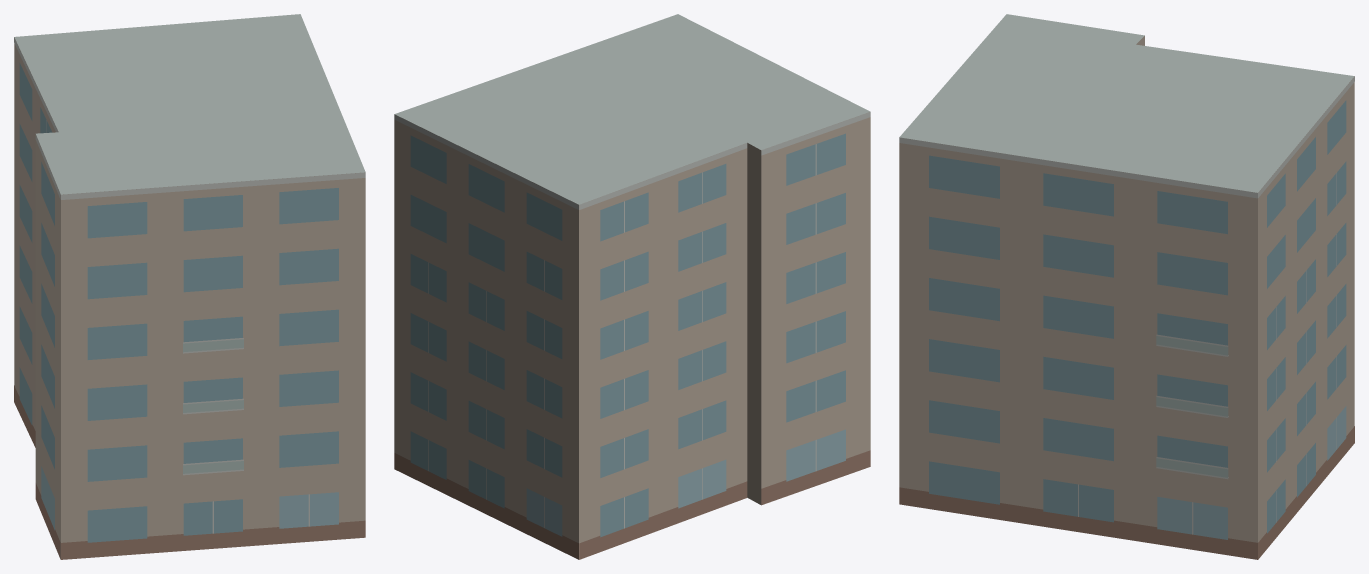
Rendered from survey-upis-32955156.glb.
3 renders of one model, left to right at view 1: azimuth 30°, elevation 25°; view 2: azimuth 150°, elevation 25°; view 3: azimuth 270°, elevation 25°, orthographic. The views are drawn at different scales.
Visible parts, largest first — view 1: survey-upis-32955156.tmp; view 2: survey-upis-32955156.tmp; view 3: survey-upis-32955156.tmp.
Part boxes in pixels (x1,y1,x2,y2): survey-upis-32955156.tmp: [14, 14, 365, 559]; survey-upis-32955156.tmp: [394, 14, 870, 559]; survey-upis-32955156.tmp: [899, 14, 1354, 559].
Size of the model in its own units: 16.84 by 16.1 by 18.12.
